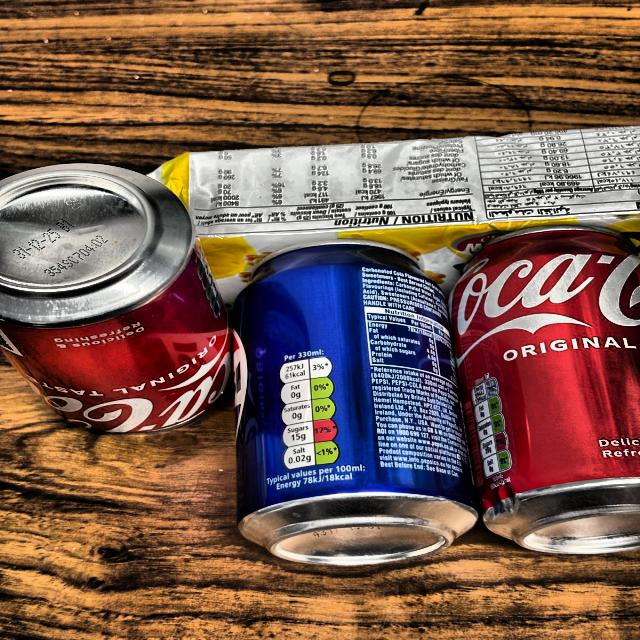coke-can: (0, 158, 232, 450), (453, 228, 640, 550)
lemon puff: (157, 124, 640, 278)
pepsi-can: (242, 238, 490, 600)
